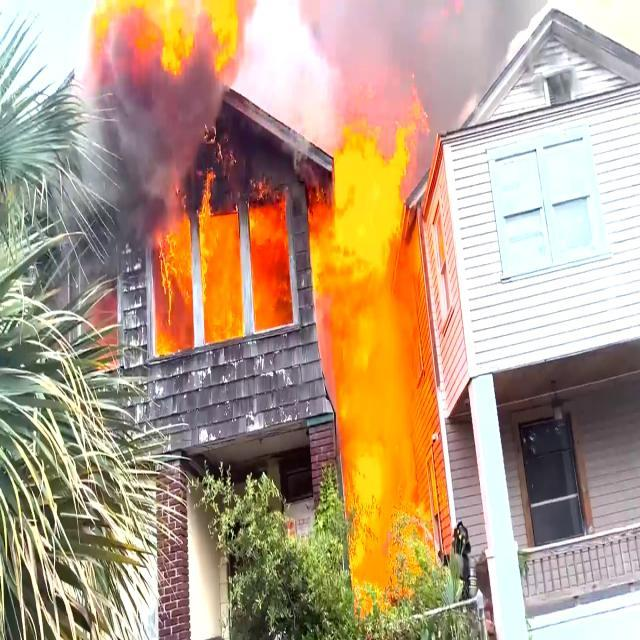Fire: (324, 144, 434, 590), (152, 235, 194, 363), (254, 207, 296, 330), (199, 222, 239, 344)
Smoke: (328, 0, 541, 85), (80, 58, 181, 218)
